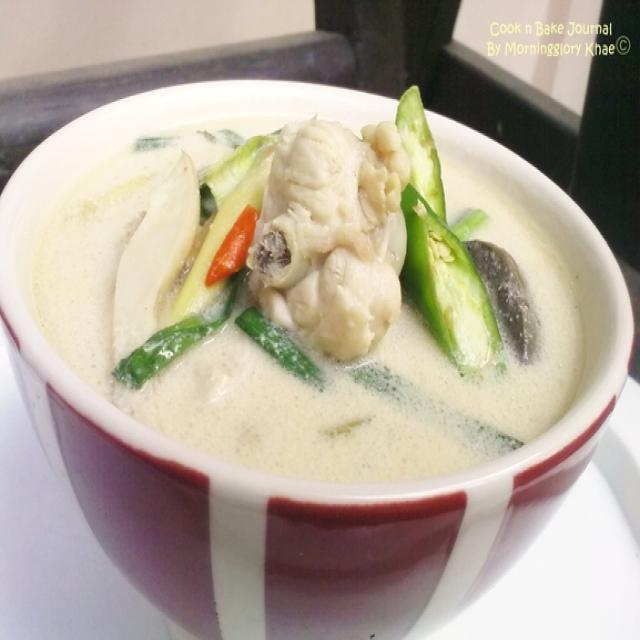汤锅炖物: (53, 81, 569, 518)
